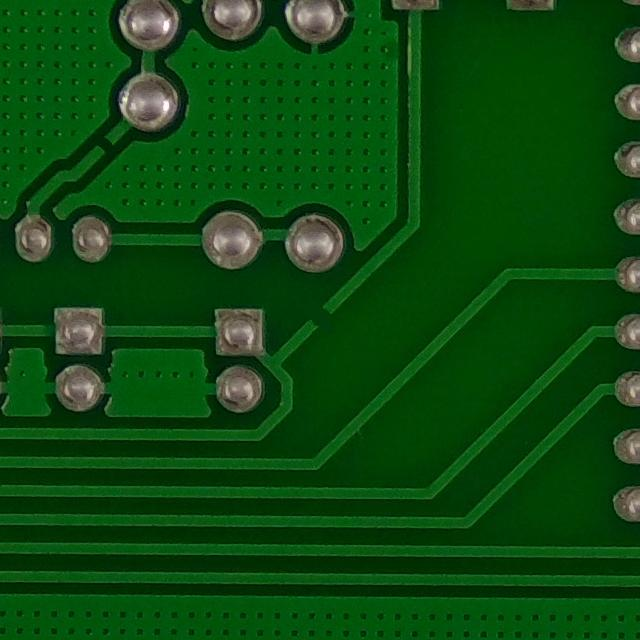open_circuit: (298, 300, 342, 341)
